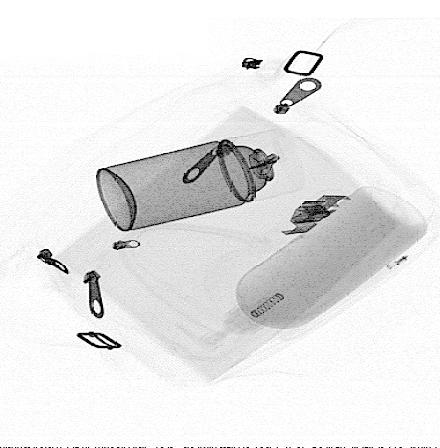Sprayer: (95, 126, 304, 232)
